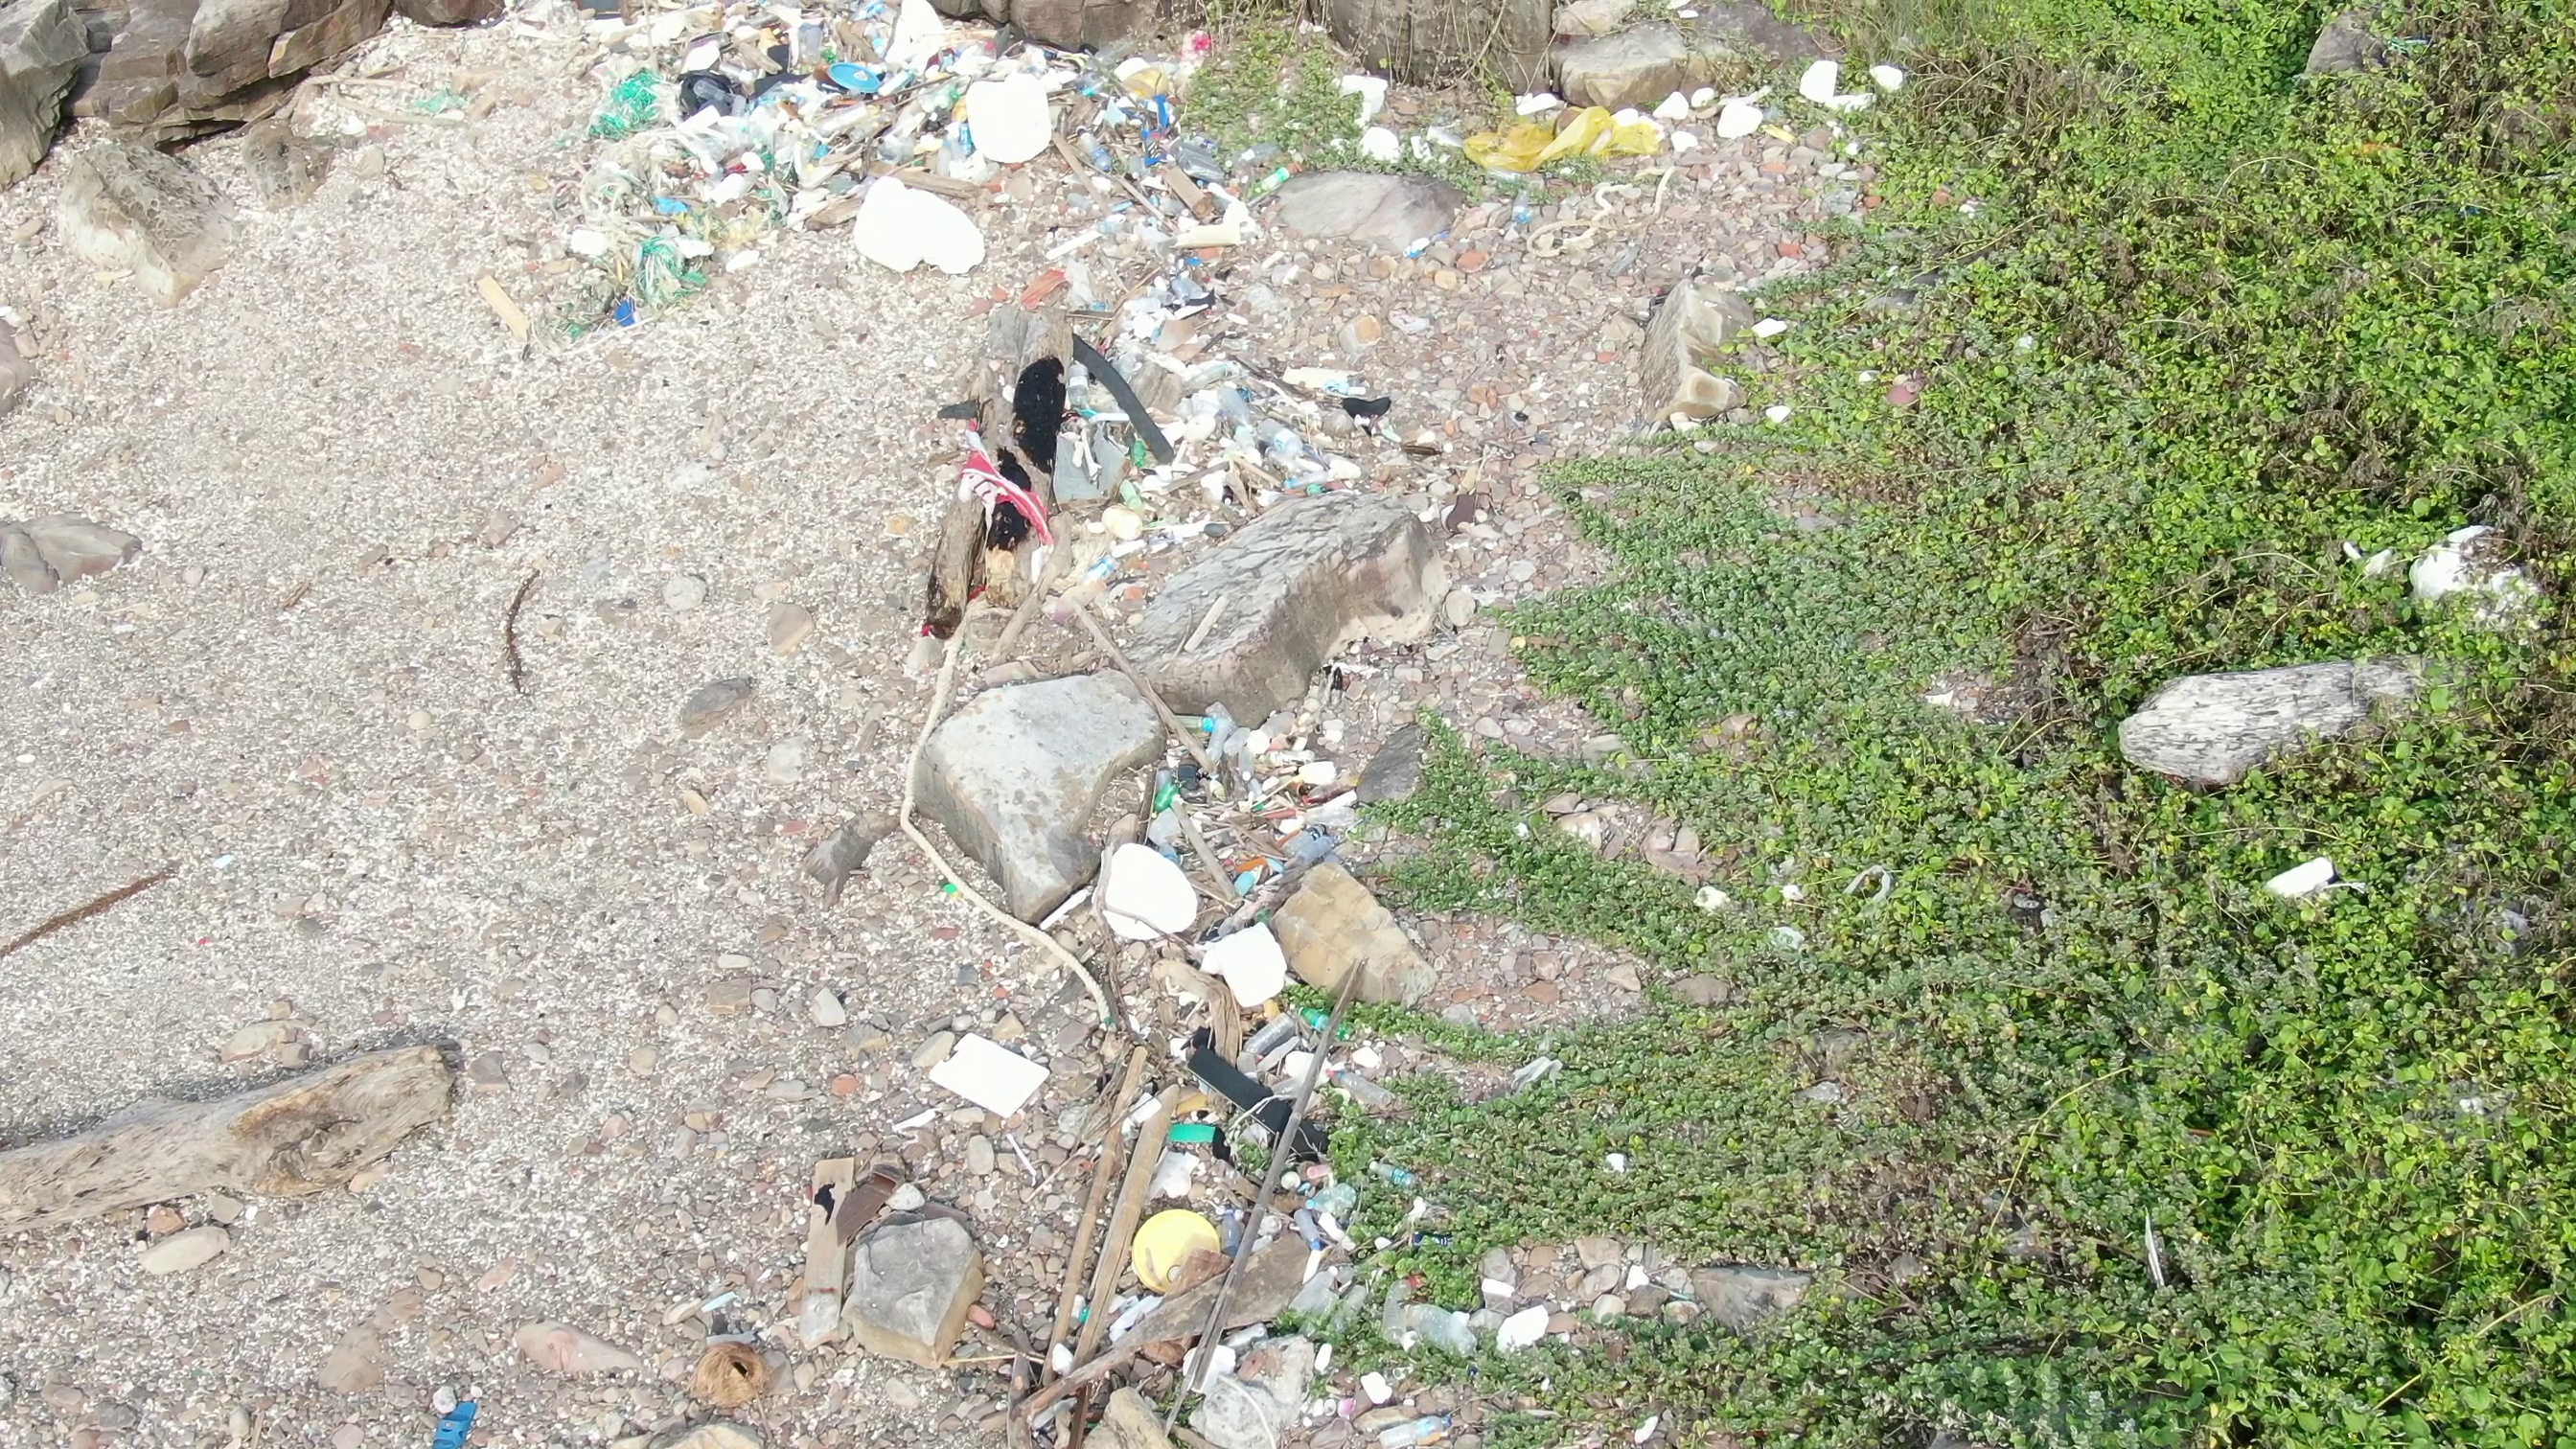garbage: (904, 364, 1430, 1449), (462, 2, 1300, 370), (1327, 46, 1918, 264), (421, 1364, 501, 1449)
